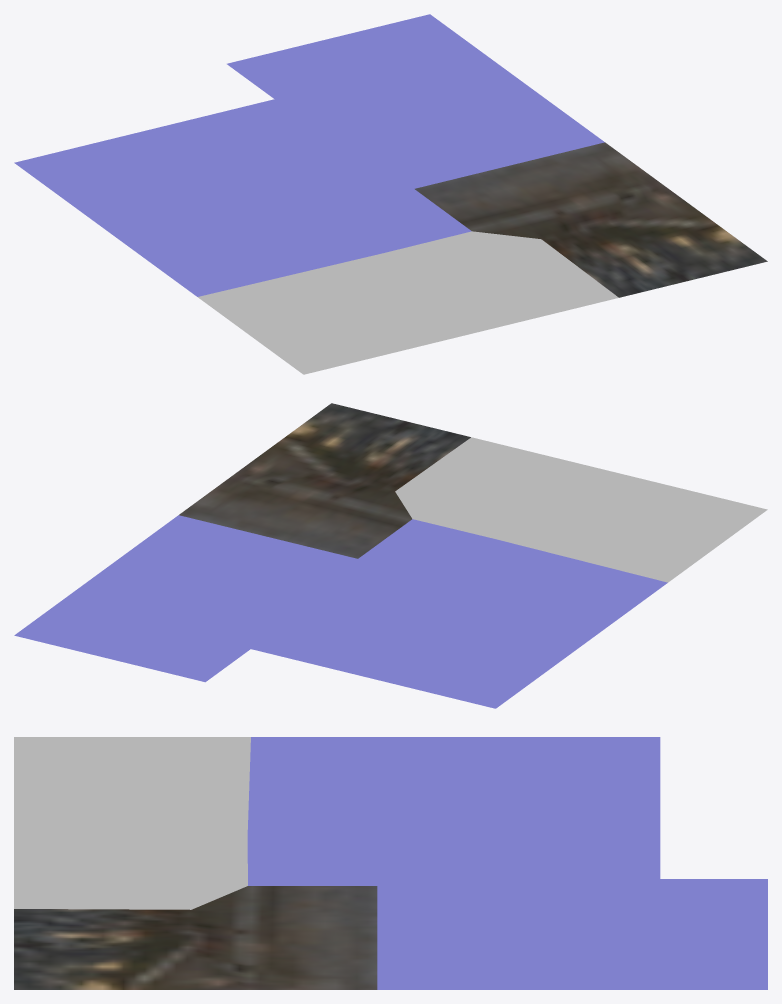
The model's file is BodenBadezimmer_PLANE.fbx.
3 views of the same model, one above another, from view 1: azimuth 30°, elevation 25°; view 2: azimuth 150°, elevation 25°; view 3: azimuth 270°, elevation 25° (orthographic). The views are drawn at different scales.
Parts seen in each view (by area): view 1: BodenBad; view 2: BodenBad; view 3: BodenBad.
Boxes of the visible parts, x1,y1,x2,y2 form: BodenBad: (14, 14, 767, 374); BodenBad: (14, 403, 767, 708); BodenBad: (14, 737, 767, 989).
Bounding box in the file's own units: 8.33 × 1.71e-06 × 10.5.
